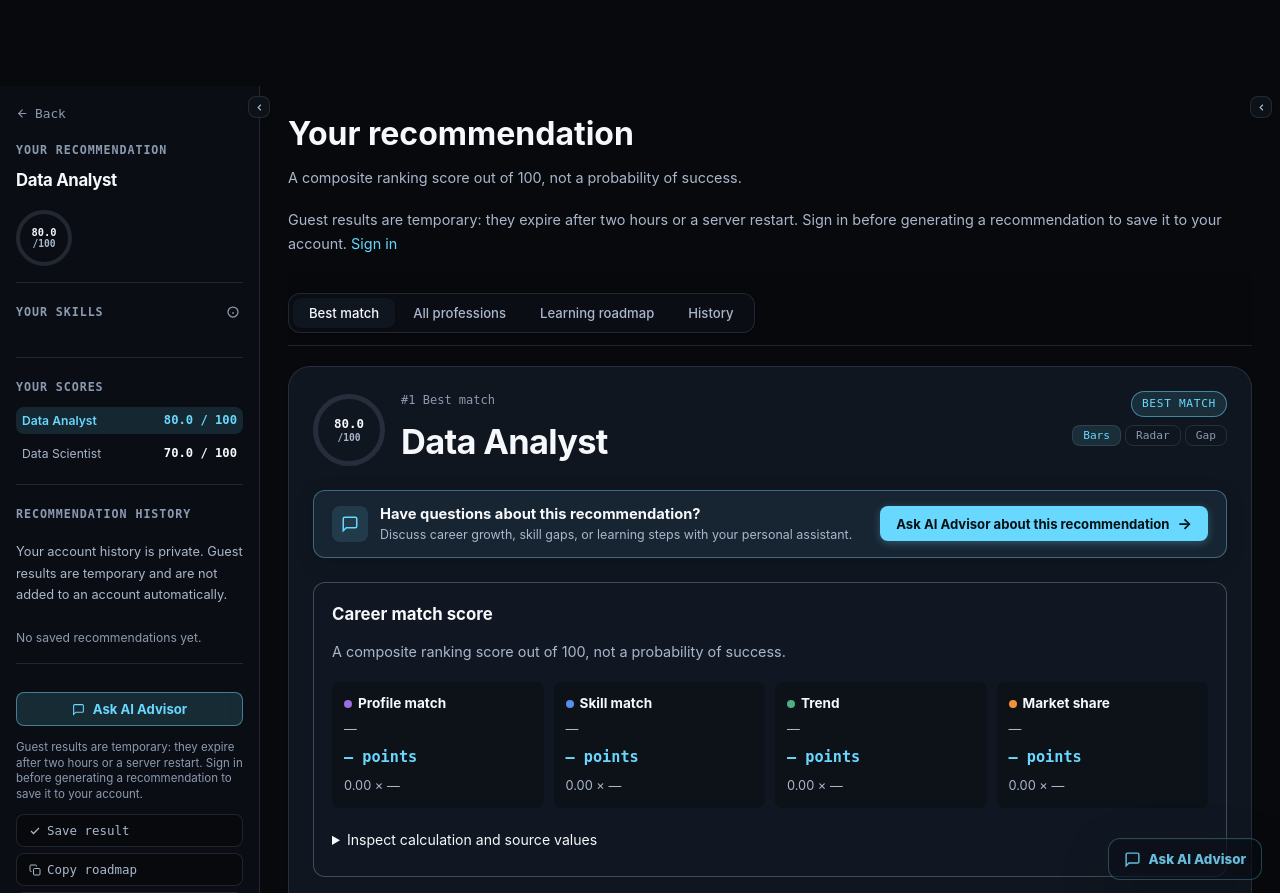
it: Results component › failed state loading never overwrites saved progress with empty defaults
Click the button with class "aiFab" at (1185, 859), box 1108,838 -> 1262,880
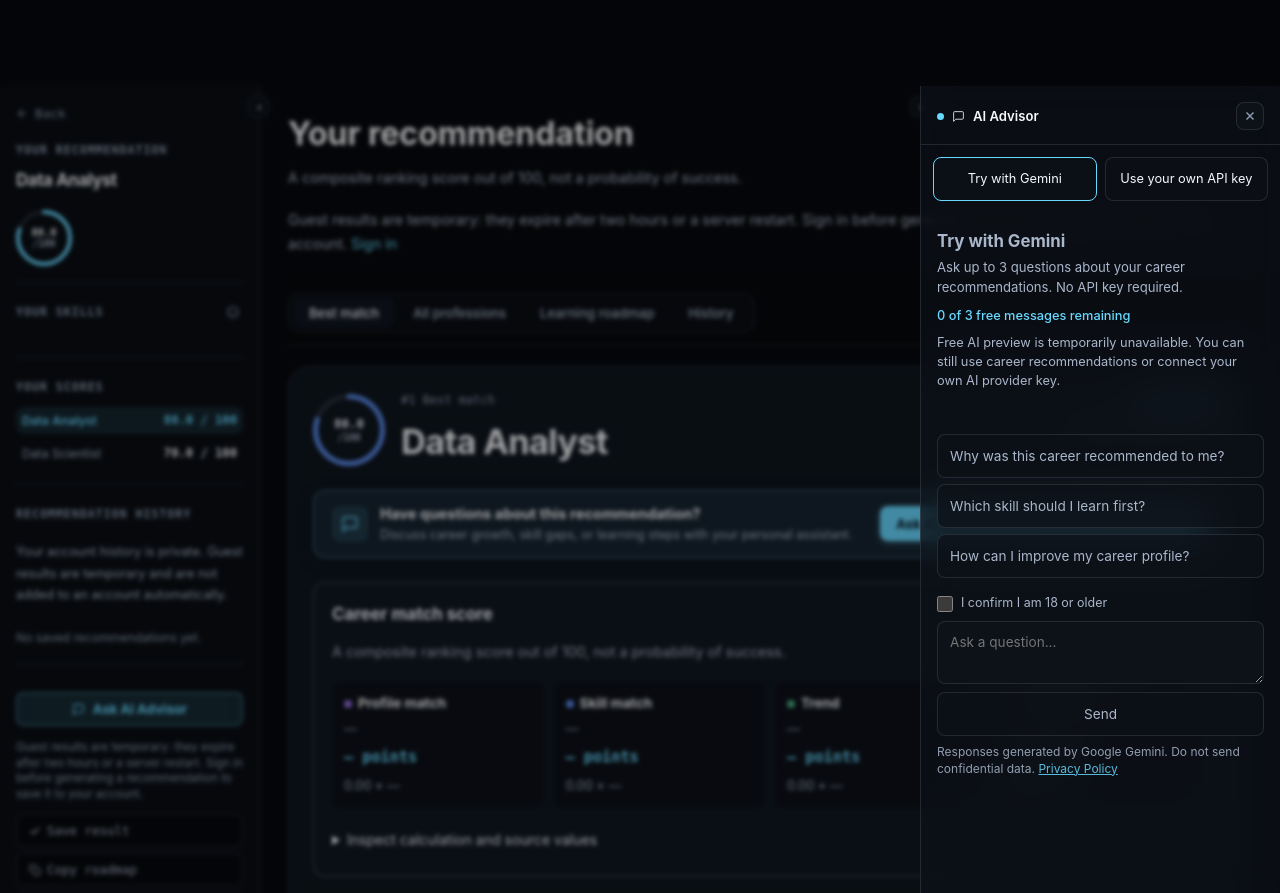
Click the button "Use your own API key" at (1186, 179), box 1104,157 -> 1268,201
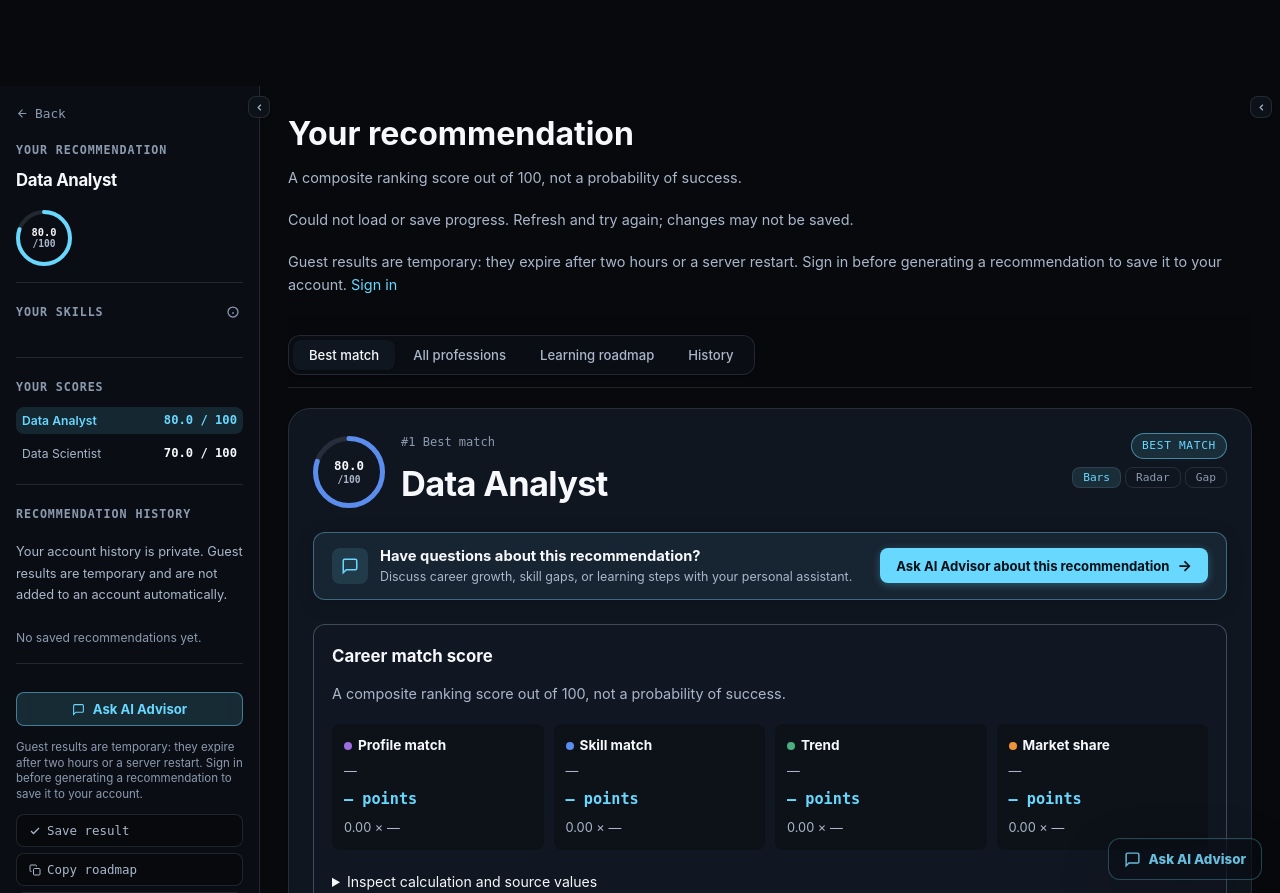
expect the text "Could not load or save progress. Refresh and try again; changes may not be saved." is shown: met, box 288,211 -> 854,228
